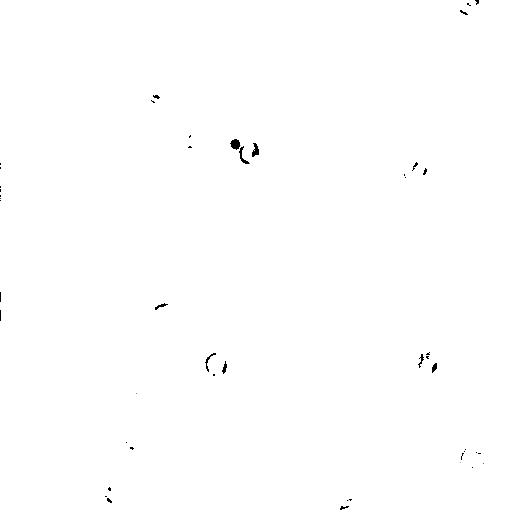micro-algae: (88, 7, 134, 51), (459, 439, 495, 483), (114, 421, 151, 463), (400, 148, 437, 187), (215, 123, 250, 163), (175, 124, 209, 159), (97, 475, 130, 508), (212, 414, 243, 448), (149, 302, 182, 330), (130, 387, 158, 414), (203, 351, 229, 379), (416, 349, 439, 377), (239, 139, 261, 166), (337, 497, 368, 512), (1, 293, 18, 320), (457, 0, 482, 18)
